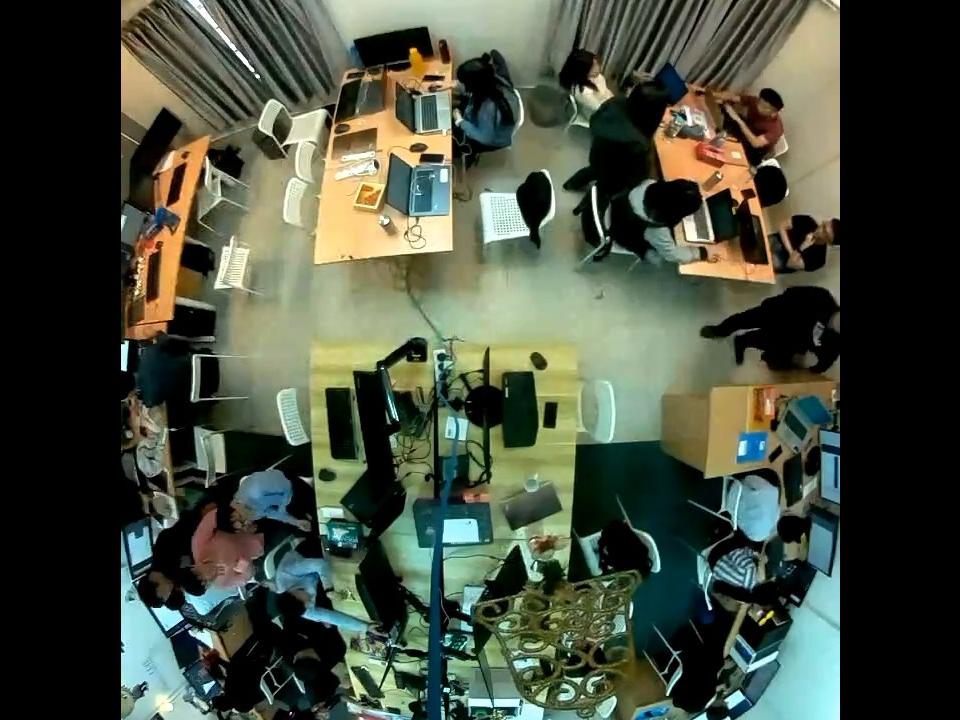name-tag: (813, 334, 823, 346)
